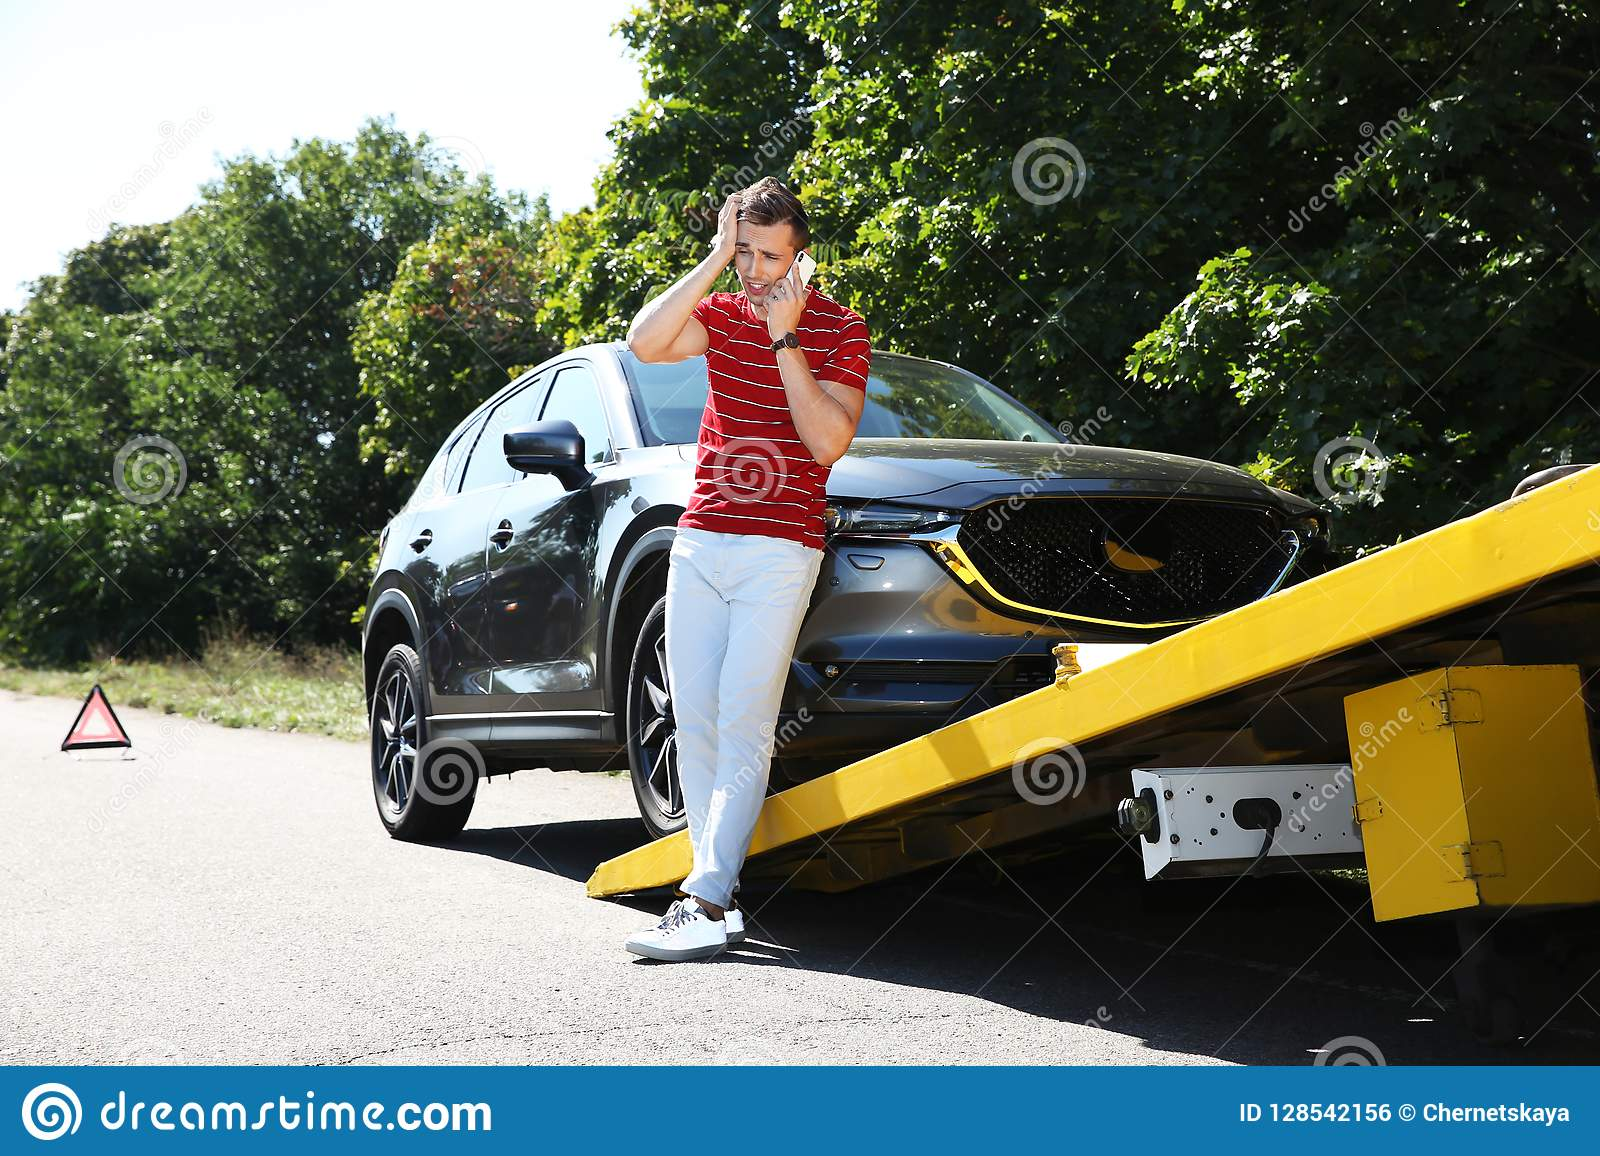phone: (779, 250, 815, 298)
talk: (734, 241, 817, 339)
